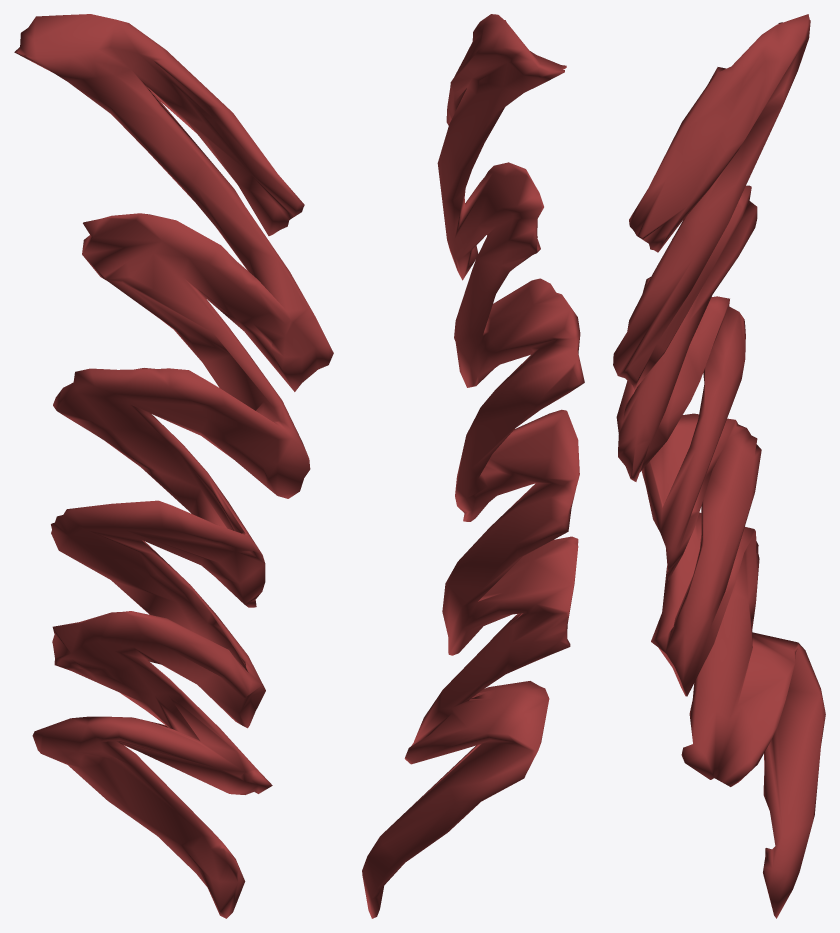
Rendered from multifidus-colli-muscle-l.glb.
3 views of the same model, side by side, from view 1: azimuth 30°, elevation 25°; view 2: azimuth 150°, elevation 25°; view 3: azimuth 270°, elevation 25° (orthographic). The views are drawn at different scales.
Visible parts, largest first — view 1: Multifidus colli muscle.l; view 2: Multifidus colli muscle.l; view 3: Multifidus colli muscle.l.
Part boxes in pixels (x1,y1,x2,y2): Multifidus colli muscle.l: [14, 14, 333, 918]; Multifidus colli muscle.l: [362, 14, 584, 918]; Multifidus colli muscle.l: [613, 14, 825, 918].
Bounding box in the file's own units: 0.024 × 0.0981 × 0.0226.
